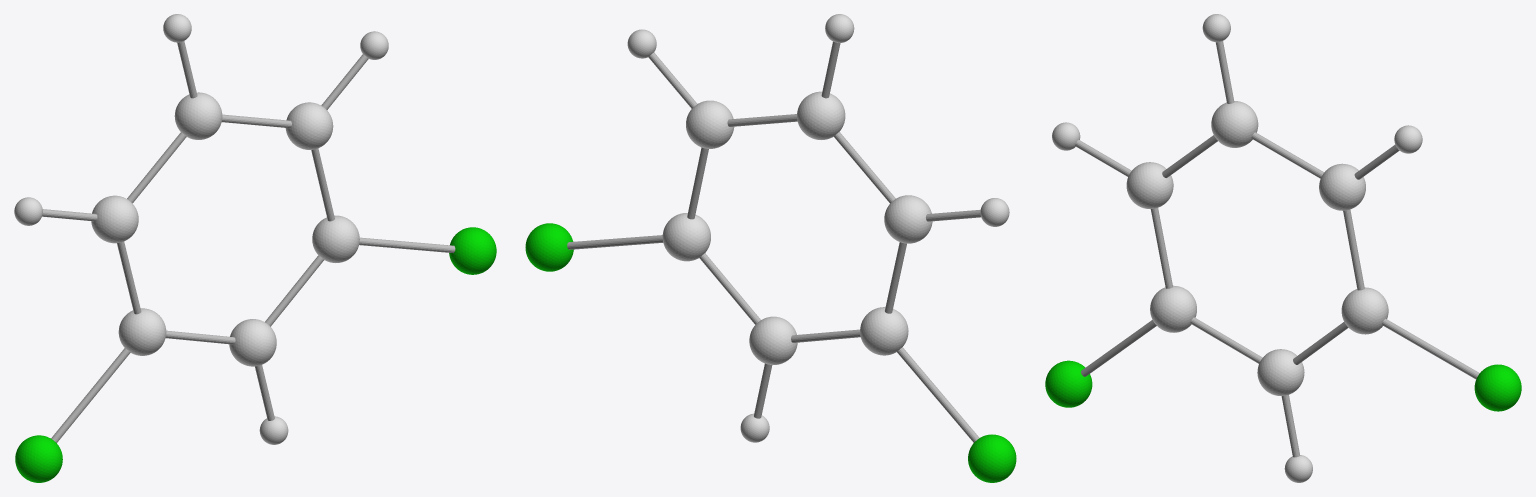
3 renders of one model, left to right at view 1: azimuth 30°, elevation 25°; view 2: azimuth 150°, elevation 25°; view 3: azimuth 330°, elevation 25°, orthographic. The views are drawn at different scales.
Visible parts, largest first — view 1: world; view 2: world; view 3: world.
Part boxes in pixels (bbox=[...]): world: bbox=[14, 14, 496, 482]; world: bbox=[525, 14, 1016, 482]; world: bbox=[1045, 14, 1521, 482].
Bounding box in the file's own units: 5.76 × 5.15 × 0.5884.
